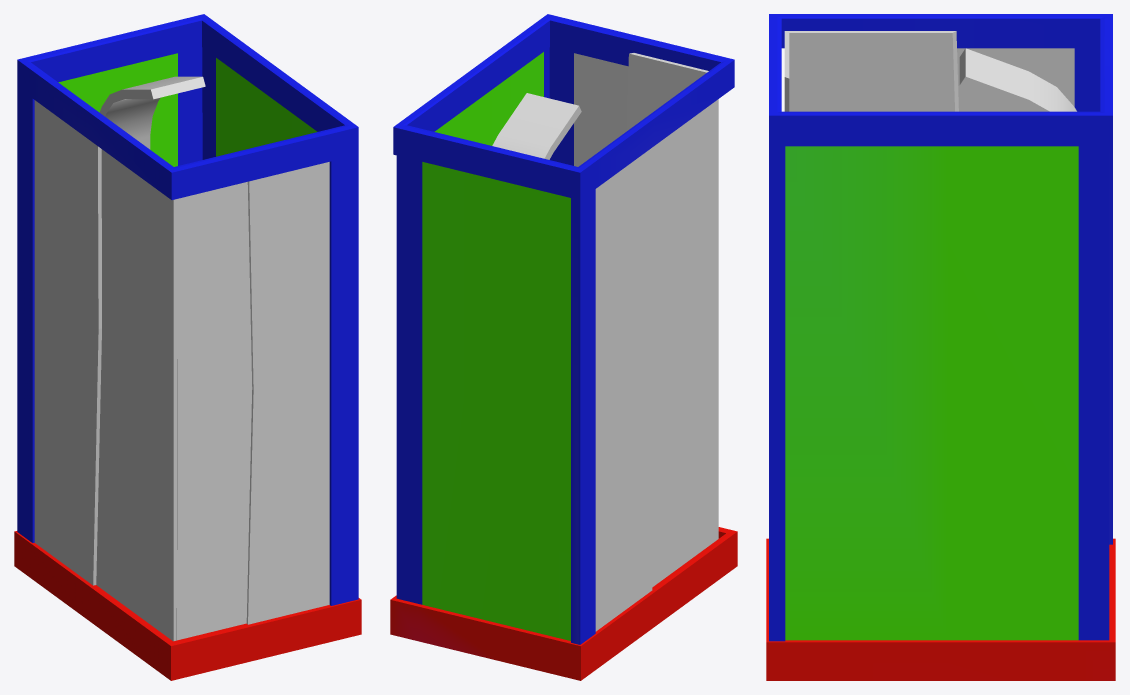
The model's file is Shower.fbx.
3 renders of one model, left to right at view 1: azimuth 30°, elevation 25°; view 2: azimuth 150°, elevation 25°; view 3: azimuth 270°, elevation 25°, orthographic. The views are drawn at different scales.
Visible parts, largest first — view 1: structure, wall2, door1, door2, wall, basin, shower_column; view 2: structure, door1, wall, basin, wall2, shower_column, door2; view 3: structure, basin, door1, shower_column, wall.
Boxes of the visible parts, left/top/right/bottom form: structure: left=17, top=14, right=358, bottom=605; wall2: left=246, top=162, right=329, bottom=624; door1: left=96, top=149, right=177, bottom=641; door2: left=176, top=182, right=252, bottom=640; wall: left=34, top=100, right=101, bottom=585; basin: left=14, top=531, right=361, bottom=680; shower_column: left=99, top=76, right=205, bottom=149; structure: left=393, top=14, right=734, bottom=644; door1: left=652, top=99, right=718, bottom=586; wall: left=595, top=144, right=657, bottom=631; basin: left=390, top=527, right=737, bottom=680; wall2: left=574, top=53, right=628, bottom=166; shower_column: left=492, top=93, right=581, bottom=159; door2: left=627, top=53, right=708, bottom=130; structure: left=769, top=14, right=1112, bottom=641; basin: left=766, top=538, right=1115, bottom=680; door1: left=784, top=31, right=958, bottom=111; shower_column: left=959, top=48, right=1076, bottom=111; wall: left=957, top=48, right=1074, bottom=111.
Size of the model in its own units: 72.73 by 186 by 104.
